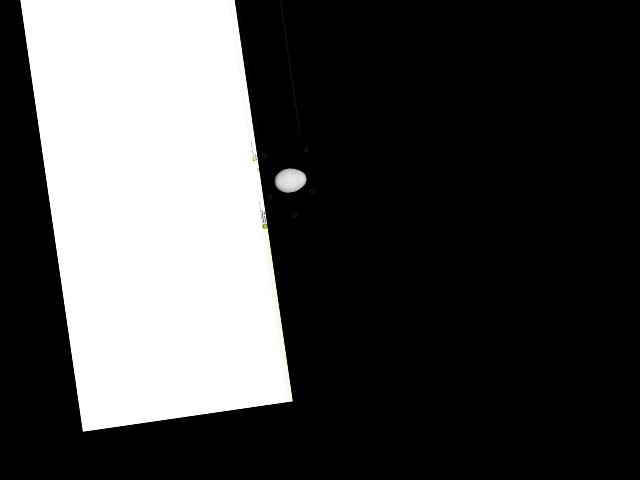egg: (272, 165, 307, 194)
